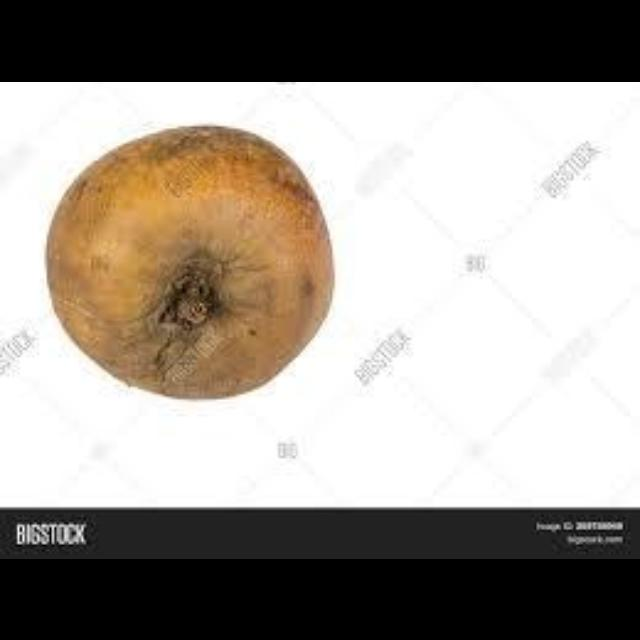apple: (44, 125, 330, 396)
rotten: (44, 128, 330, 396)
